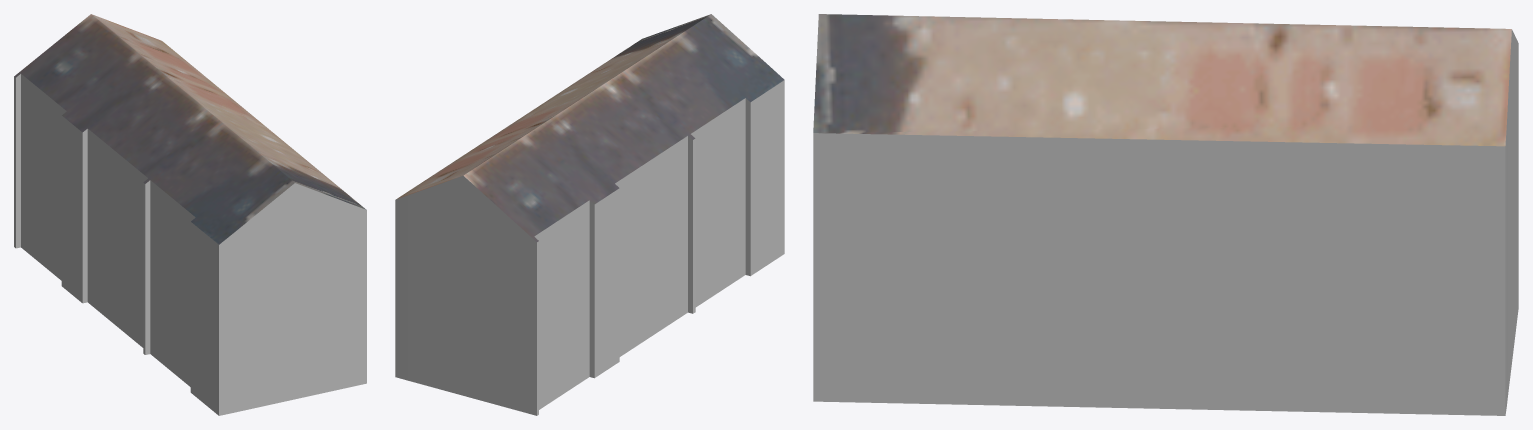
File: DEBW_0010007Tx79.gltf
3 views of the same model, side by side, from view 1: azimuth 30°, elevation 25°; view 2: azimuth 150°, elevation 25°; view 3: azimuth 270°, elevation 25° (orthographic). The views are drawn at different scales.
Visible parts, largest first — view 1: Z_UP; view 2: Z_UP; view 3: Z_UP.
Boxes of the visible parts, <box> form: Z_UP: <box>14,14,366,415</box>; Z_UP: <box>395,14,784,415</box>; Z_UP: <box>813,14,1518,415</box>.
Bounding box in the file's own units: 12.51 × 15.88 × 30.31.
Materials: 2 (1 with a texture image).
